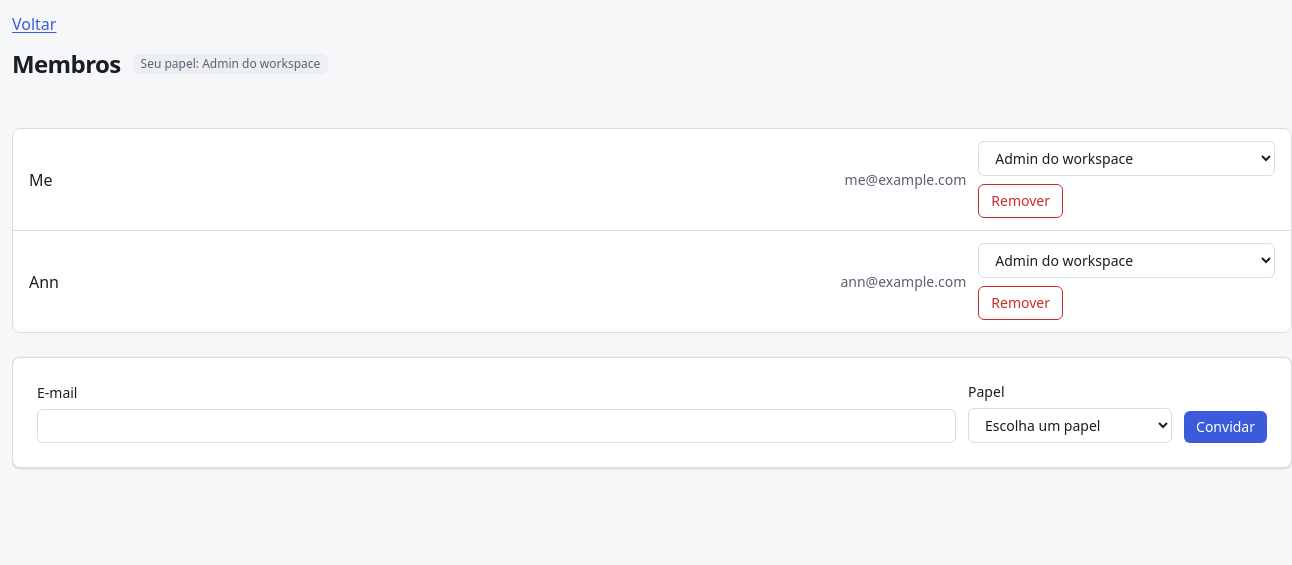
Test: WorkspaceMembersPage — P1: Convidar (MEM-04..09) › POST 409 (already a member) shows the conflict message and never adds a duplicate (MEM-08)
Expected: the button "Convidar" is shown, x1=1184 y1=411 x2=1267 y2=443
Type "dupe@example.com" into the field labelled "E-mail".
click(496, 426); type("dupe@example.com")  # box x1=37 y1=409 x2=956 y2=443
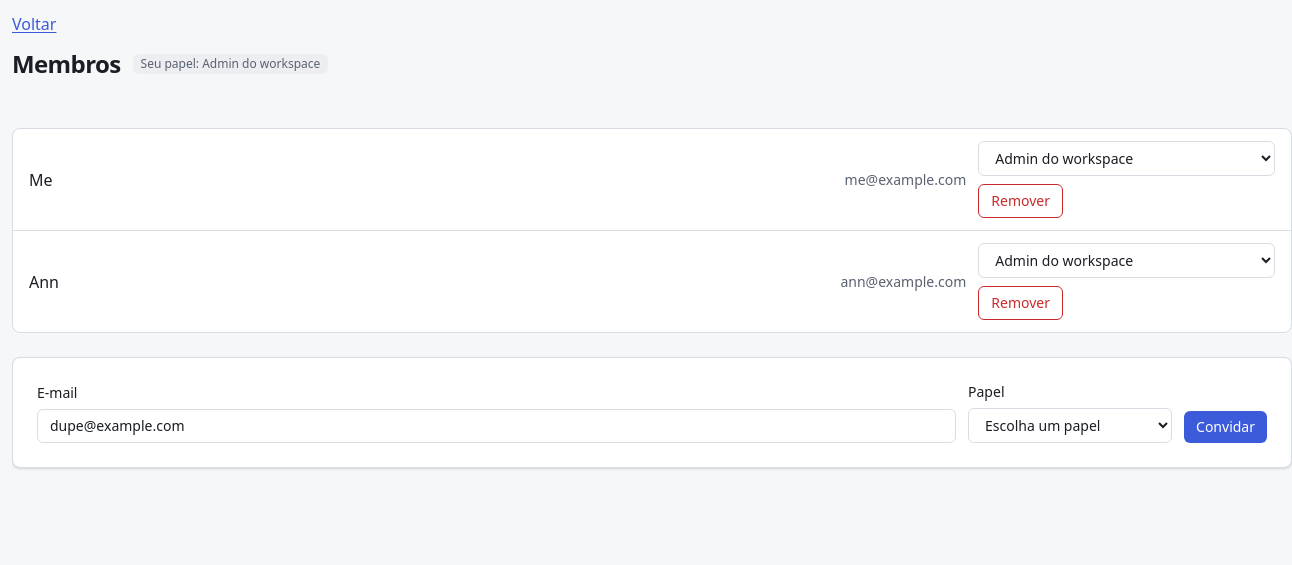
Select "Visualizador" in the dropdown labelled "Papel" at (1070, 426), box x1=968 y1=408 x2=1172 y2=443
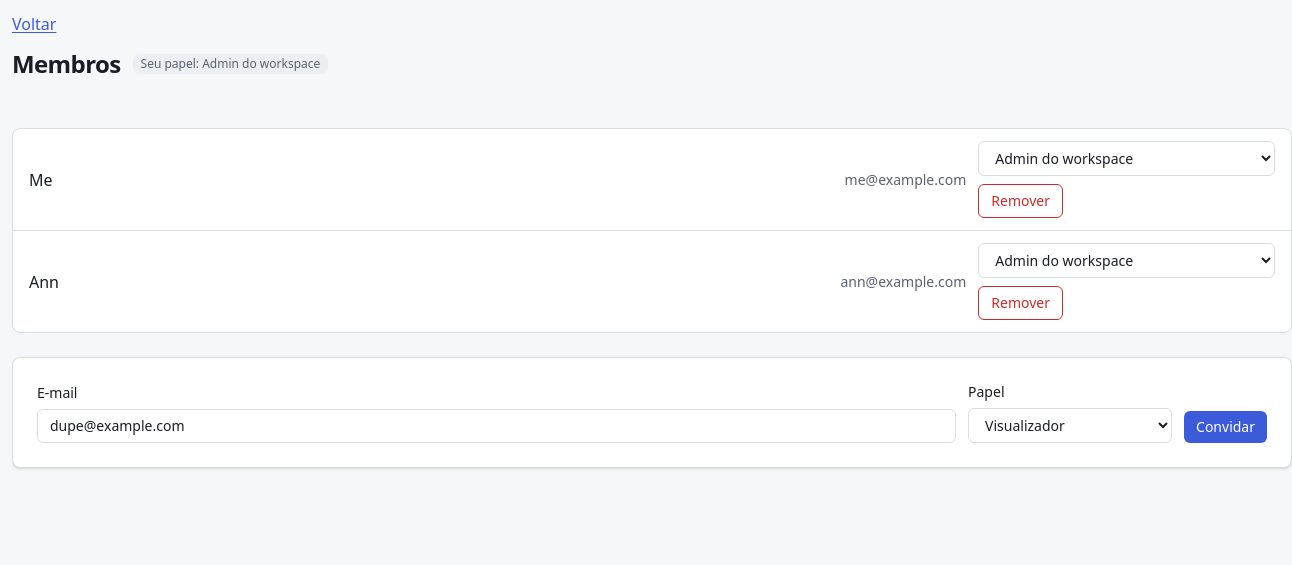
Click the button "Convidar".
click(1226, 427)  # box x1=1184 y1=411 x2=1267 y2=443
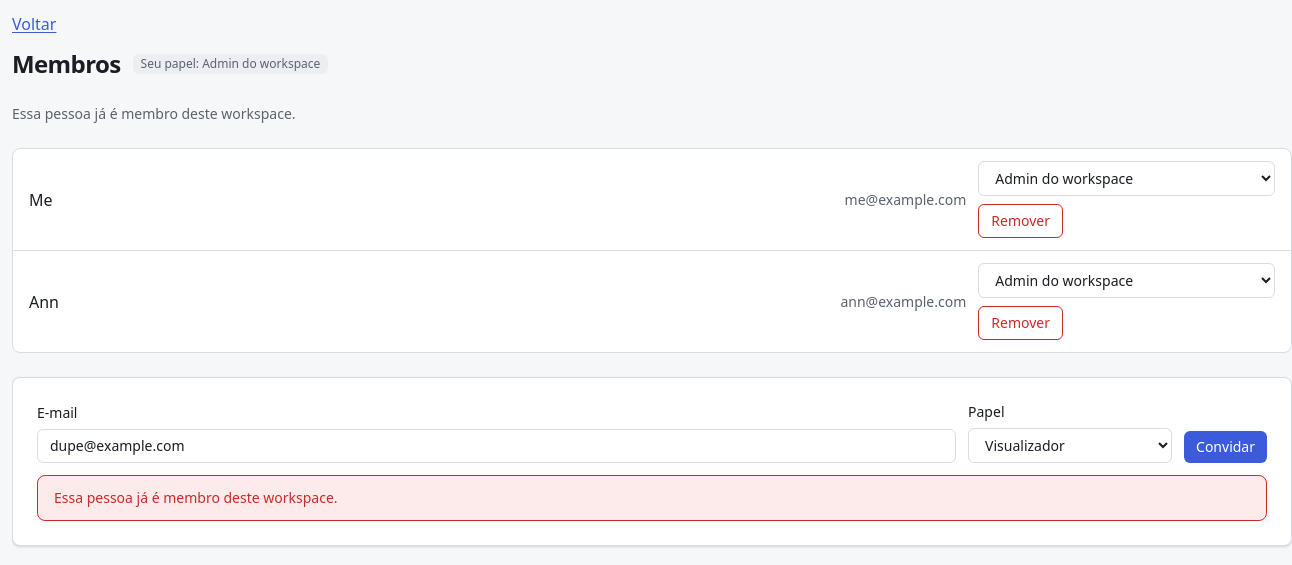
Result: the text with test id "members-announcement" reads "Essa pessoa já é membro deste workspace." at x1=12 y1=104 x2=296 y2=123
